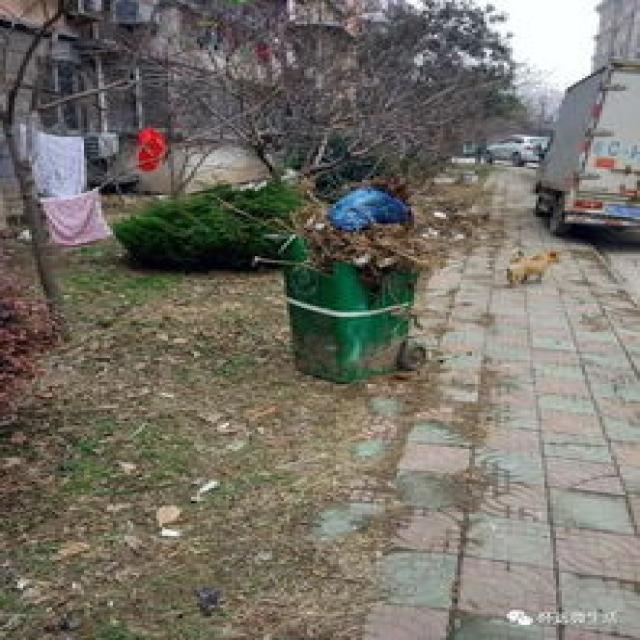overflow: (264, 187, 428, 386)
